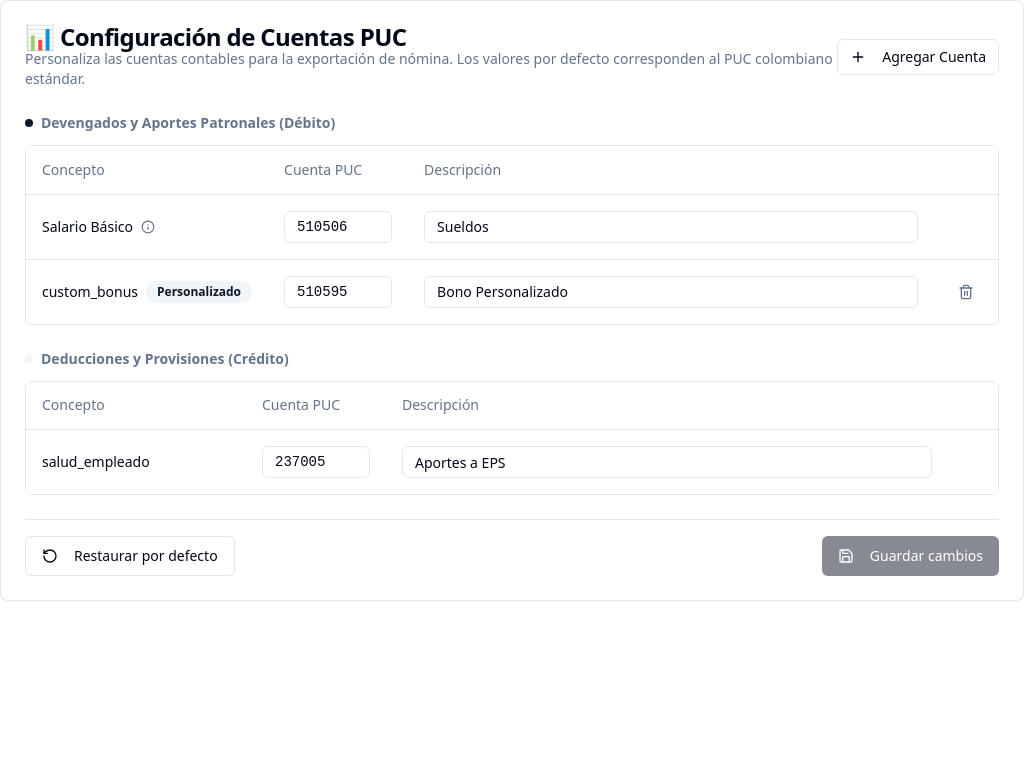
PUCMappingEditor › should validate concept name minimum length
Click the button "Agregar Cuenta" at (918, 57), box [837,39,999,75]
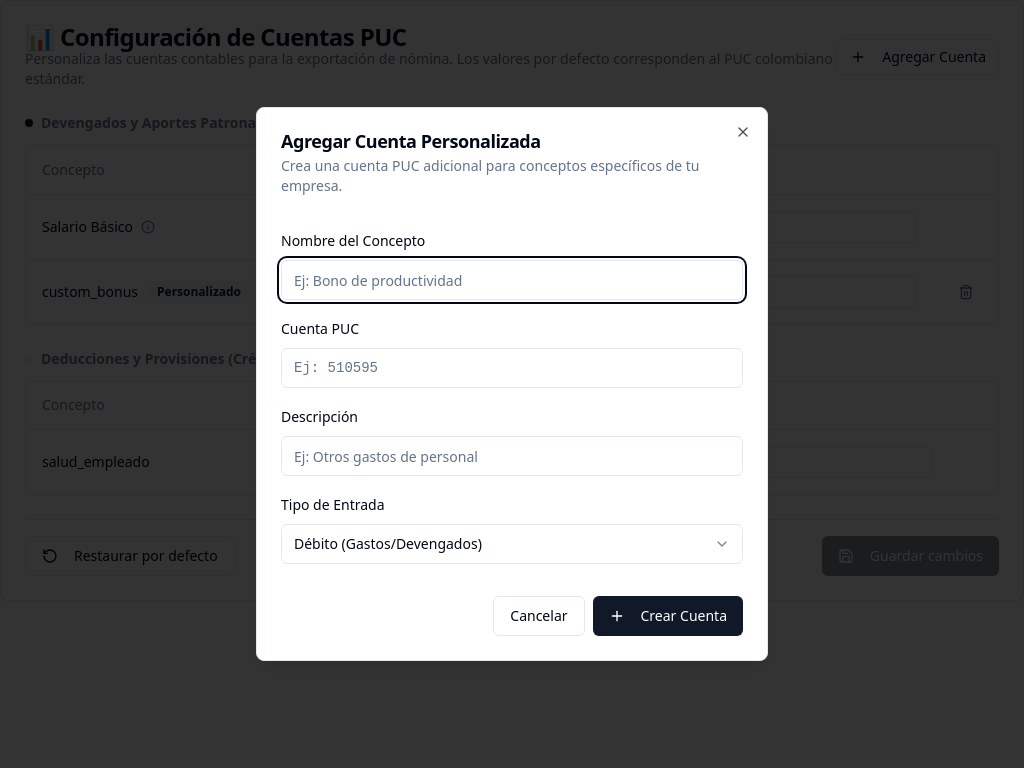
Type "ab" into the field labelled "Nombre del Concepto" at (512, 280), box [281,260,743,300]
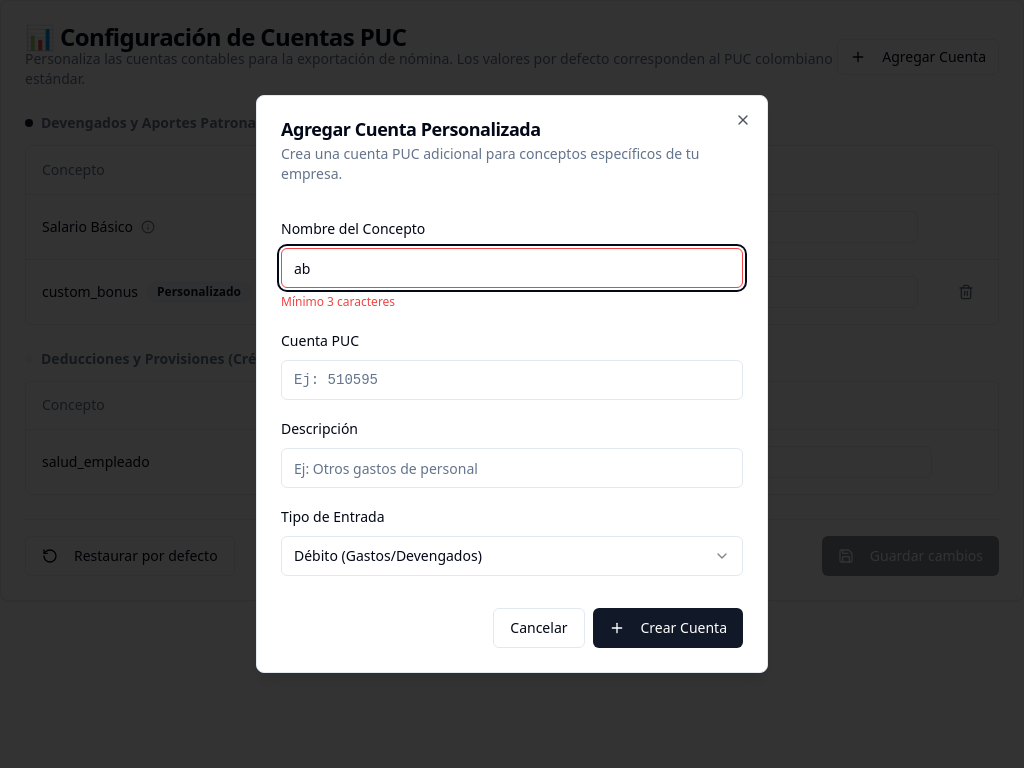
Expected: the text "Mínimo 3 caracteres" is shown, [281,293,395,310]
